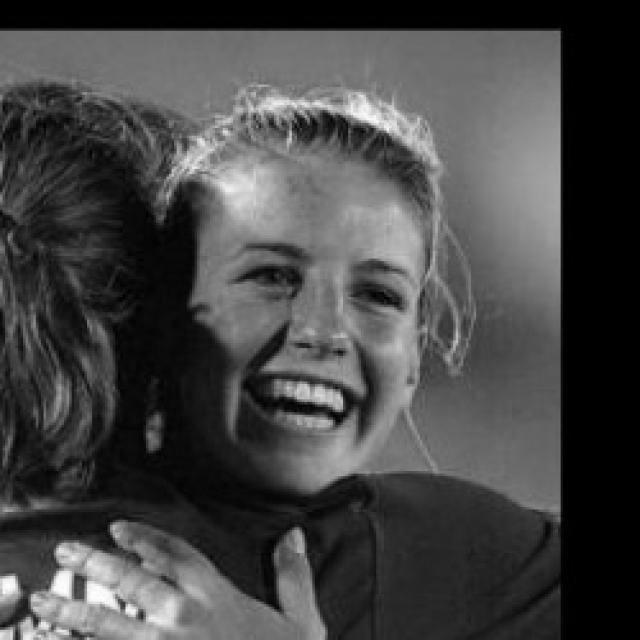real: (188, 148, 420, 496), (238, 249, 414, 337)
